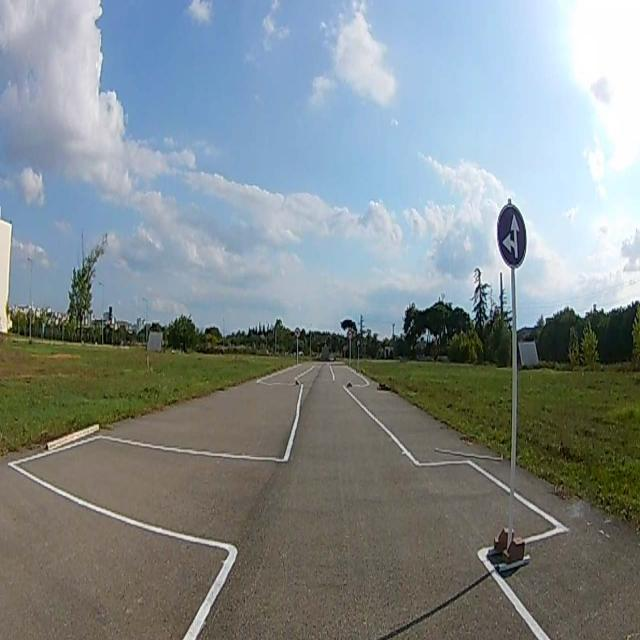ilerisol: (497, 202, 527, 266)
